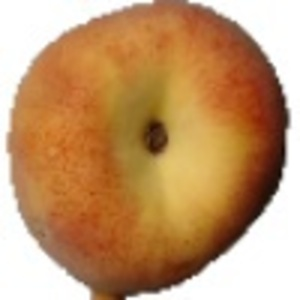pêssego: (5, 1, 291, 300)
